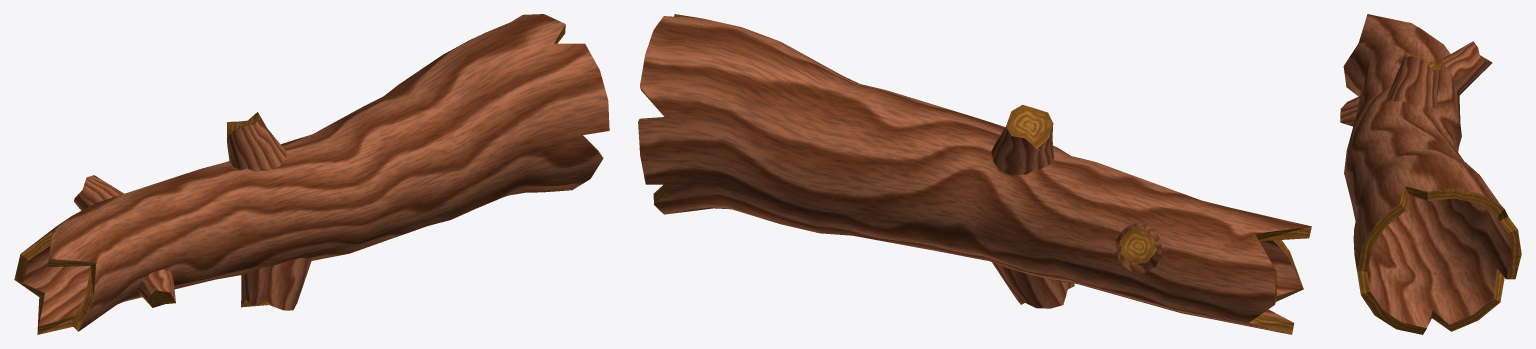
File: Tree_Stump_Mesh_1.FBX
3 views of the same model, side by side, from view 1: azimuth 30°, elevation 25°; view 2: azimuth 150°, elevation 25°; view 3: azimuth 270°, elevation 25° (orthographic). The views are drawn at different scales.
Parts seen in each view (by area): view 1: Bark_Tree_Stump_1; view 2: Bark_Tree_Stump_1; view 3: Bark_Tree_Stump_1.
Boxes of the visible parts, bbox=[...] form: Bark_Tree_Stump_1: bbox=[14, 14, 609, 334]; Bark_Tree_Stump_1: bbox=[638, 14, 1311, 334]; Bark_Tree_Stump_1: bbox=[1340, 14, 1521, 334].
Bounding box in the file's own units: 23.09 × 7.92 × 6.95.
Materials: 1 (1 with a texture image).
